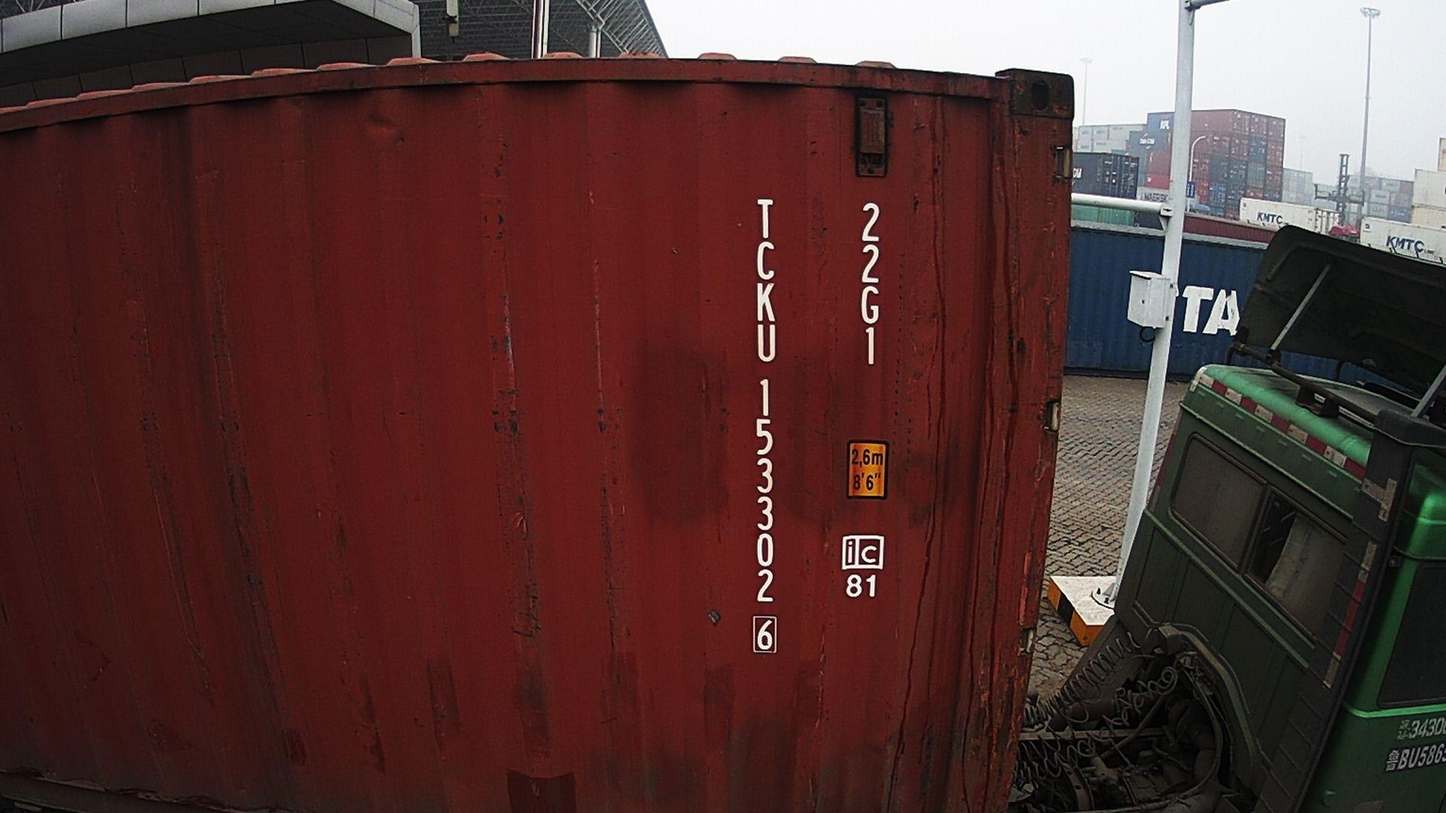container-numbers: (745, 195, 785, 661), (853, 198, 887, 370)
